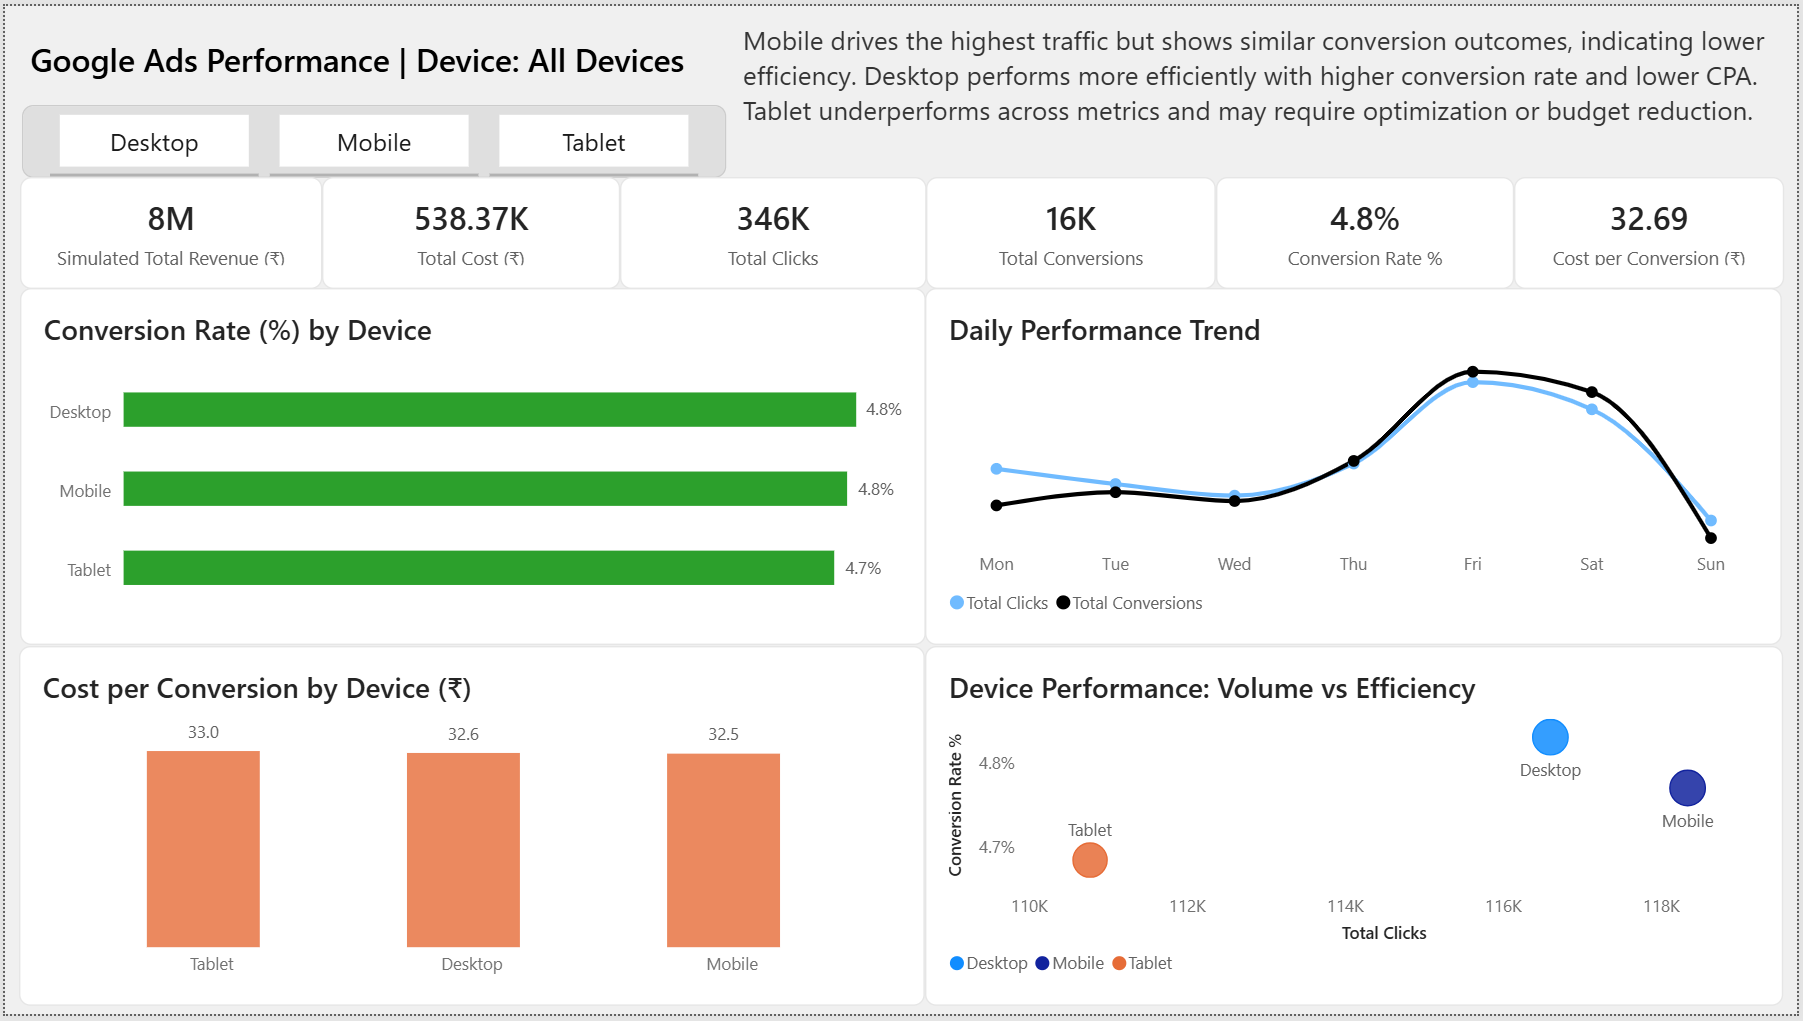

This screenshot's page, from the dashboard's own definition file:
{"tool":"powerbi","page":{"name":"Dashboard","canvas":[1280,720],"ordinal":0},"visuals":[{"type":"shape","box":[12.1,70.4,503.3,52.3],"z":0},{"type":"lineChart","title":"Daily Performance Trend","fields":{"Category":["Date.Day Name"],"Y":["Ads.Total Clicks"],"Y2":["Ads.Total Conversions"]},"box":[657.3,201.7,612.4,255.4],"z":2000},{"type":"textbox","box":[526.9,11.1,742.1,110.8],"z":3000},{"type":"card","fields":{"Values":["Ads.Conversion_Rate"]},"box":[864.7,122.5,212.9,80],"z":4000},{"type":"card","fields":{"Values":["Ads.Total Revenue"]},"box":[10.5,122.5,215.7,80],"z":5000},{"type":"card","fields":{"Values":["Ads.Total Cost"]},"box":[226.2,122.5,212.9,80],"z":6000},{"type":"card","fields":{"Values":["Ads.Total Clicks"]},"box":[439,122.5,218.6,80],"z":7000},{"type":"card","fields":{"Values":["Ads.Total Conversions"]},"box":[657.6,122.5,207.1,80],"z":8000},{"type":"card","fields":{"Values":["Ads.Cost per Conversion"]},"box":[1077.6,122.5,192.9,80],"z":9000},{"type":"clusteredBarChart","title":"Conversion Rate (%) by Device","fields":{"Category":["Ads.Device"],"Y":["Ads.Conversion Rate %"]},"box":[10.5,201.7,646.8,255.4],"z":10000},{"type":"columnChart","title":"Cost per Conversion (₹) by Device","fields":{"Category":["Ads.Device"],"Y":["Ads.Cost per Conversion (₹)"]},"box":[10,457.1,647.1,257.1],"z":11000},{"type":"scatterChart","title":"Device Performance: Volume vs Efficiency","fields":{"Category":["Ads.Device"],"Series":["Ads.Device"],"Size":["Ads.Total Conversions"],"X":["Ads.Total Clicks"],"Y":["Ads.Conversion Rate %"]},"box":[657.1,457.1,612.9,257.1],"z":12000},{"type":"advancedSlicerVisual","fields":{"Values":["Ads.Device"]},"box":[12.1,70.4,503.3,51.6],"z":13000},{"type":"card","fields":{"Values":["Ads.Dynamic Title"]},"box":[0,10.7,503.3,59.6],"z":13001}]}

Visuals, with their boxes in screenshot pixels (x1, y1, x2, y2), scaled from the page's 1280x720 canvas onto the 1803x1021 screenshot:
shape: [17,100,726,174]
"Daily Performance Trend" lineChart: [926,286,1788,648]
textbox: [742,16,1788,173]
card - Ads.Conversion_Rate: [1218,174,1518,287]
card - Ads.Total Revenue: [15,174,319,287]
card - Ads.Total Cost: [319,174,619,287]
card - Ads.Total Clicks: [618,174,926,287]
card - Ads.Total Conversions: [926,174,1218,287]
card - Ads.Cost per Conversion: [1518,174,1790,287]
"Conversion Rate (%) by Device" clusteredBarChart: [15,286,926,648]
"Cost per Conversion (₹) by Device" columnChart: [14,648,926,1013]
"Device Performance: Volume vs Efficiency" scatterChart: [926,648,1789,1013]
advancedSlicerVisual - Ads.Device: [17,100,726,173]
card - Ads.Dynamic Title: [0,15,709,100]
